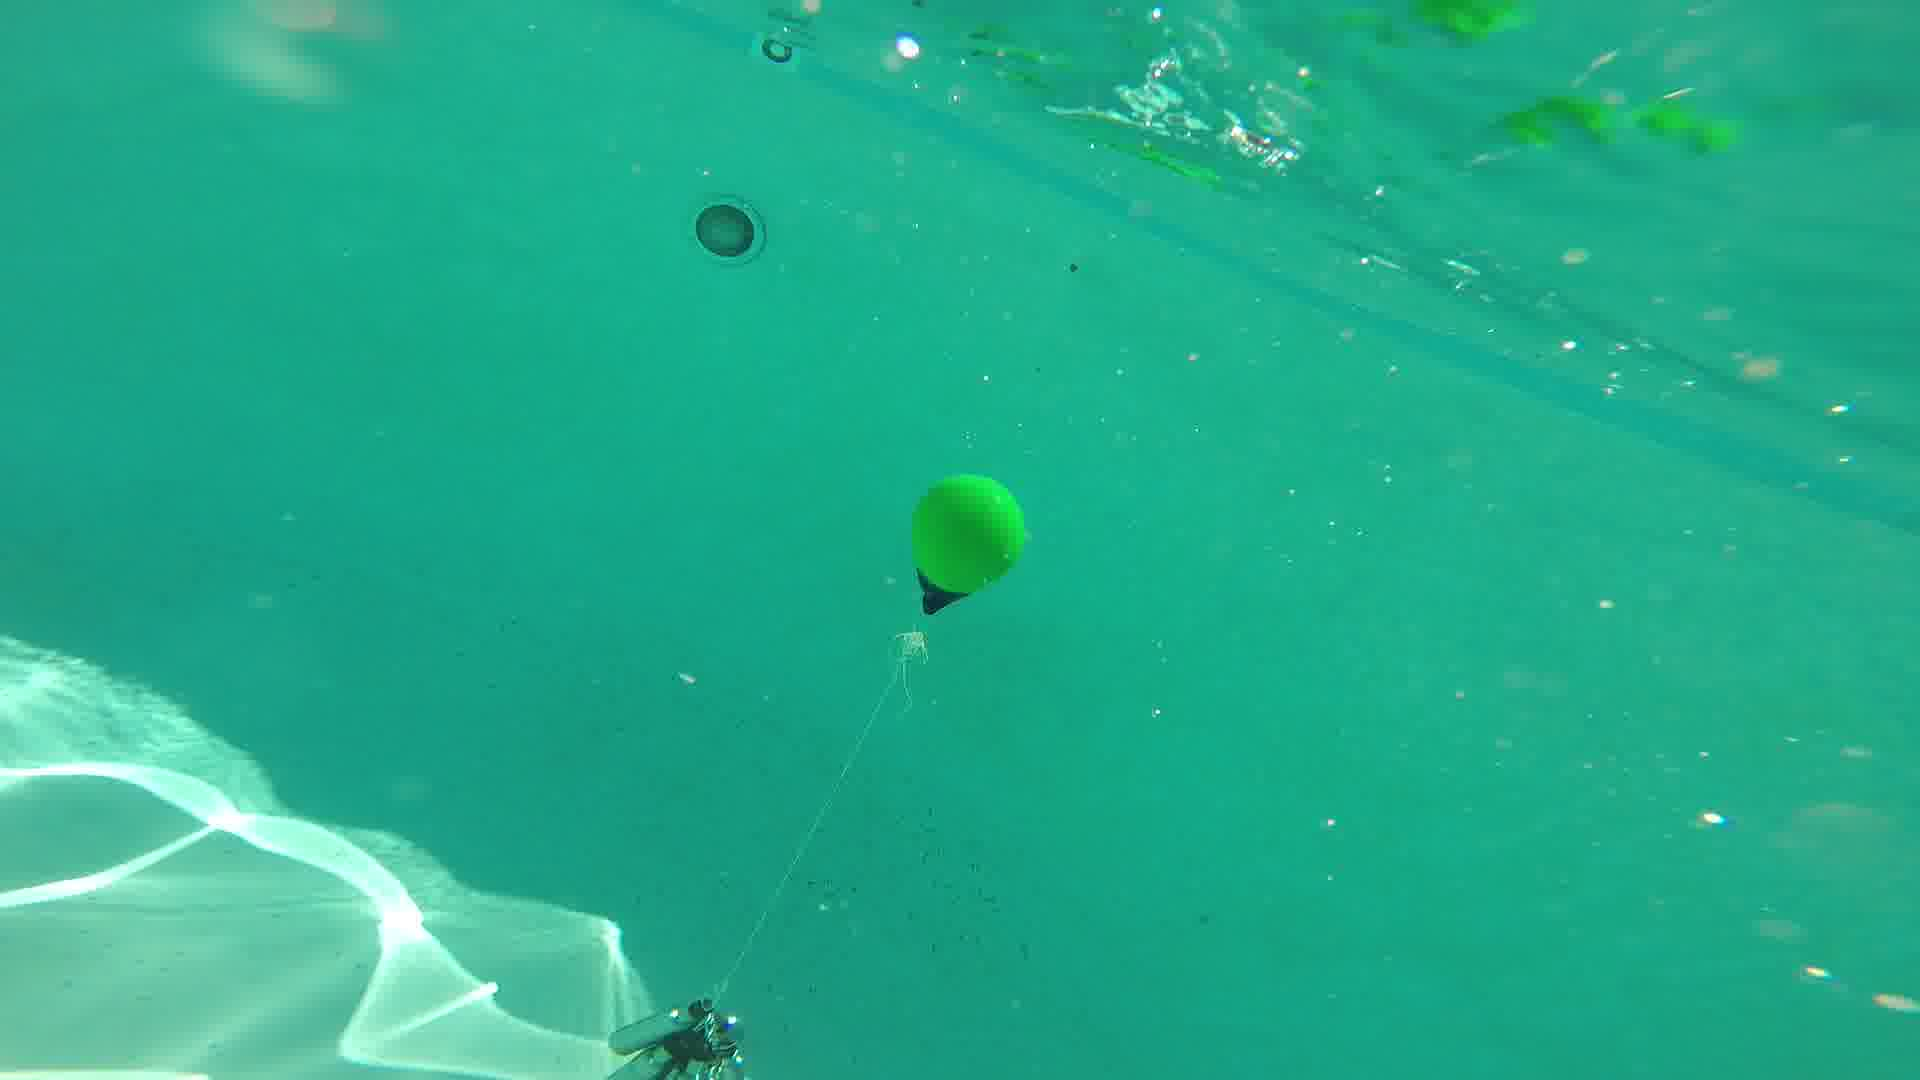yellow_buoy: (911, 473, 1025, 615)
